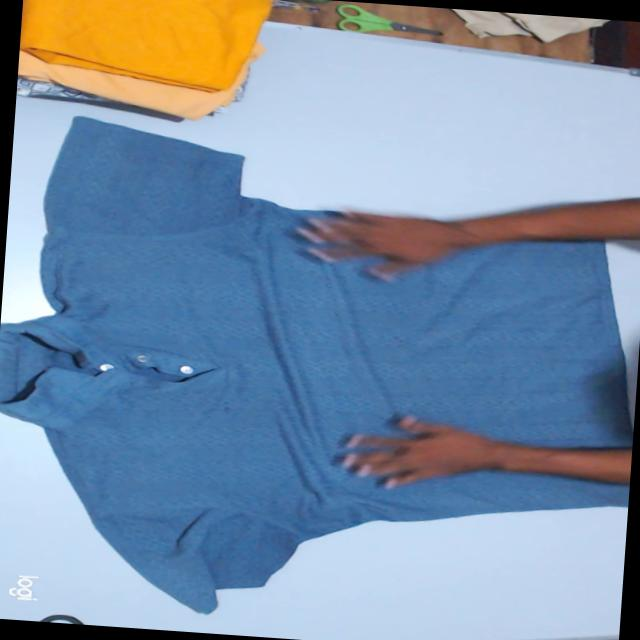new-garment: (0, 117, 633, 612)
